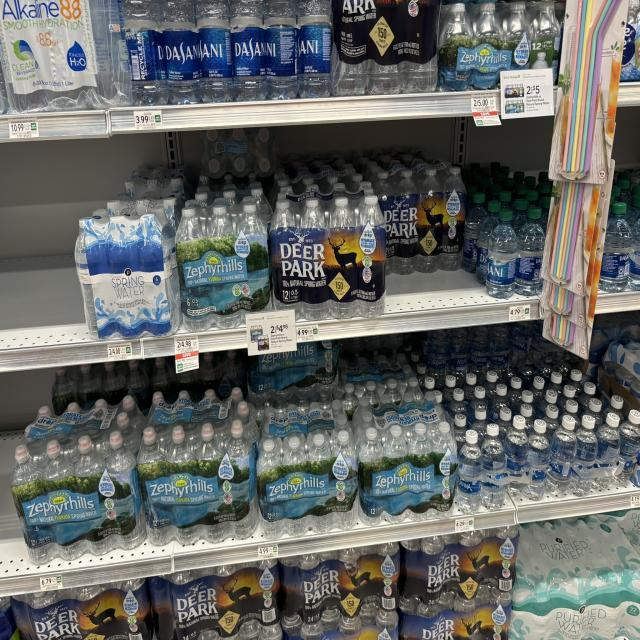Water: (10, 407, 145, 563), (138, 397, 259, 545), (509, 510, 640, 638), (269, 183, 386, 320), (349, 147, 465, 282), (0, 0, 132, 113), (75, 207, 181, 338), (256, 407, 358, 538), (176, 198, 271, 332), (358, 402, 458, 525), (279, 542, 400, 640), (149, 560, 282, 640), (229, 0, 332, 102), (331, 0, 440, 94), (400, 525, 519, 605), (11, 578, 154, 640), (438, 0, 534, 92), (399, 585, 511, 640), (248, 340, 339, 397), (529, 0, 565, 82), (486, 208, 518, 298), (599, 202, 631, 292), (515, 207, 545, 295), (546, 415, 578, 497), (570, 415, 598, 496), (592, 412, 621, 490), (481, 423, 506, 510), (505, 415, 532, 495), (456, 430, 482, 513), (524, 418, 550, 500), (462, 192, 486, 273), (615, 410, 640, 487), (534, 2, 560, 35), (471, 405, 488, 447), (448, 388, 469, 421), (540, 388, 559, 413), (498, 407, 512, 440), (454, 413, 468, 445)
